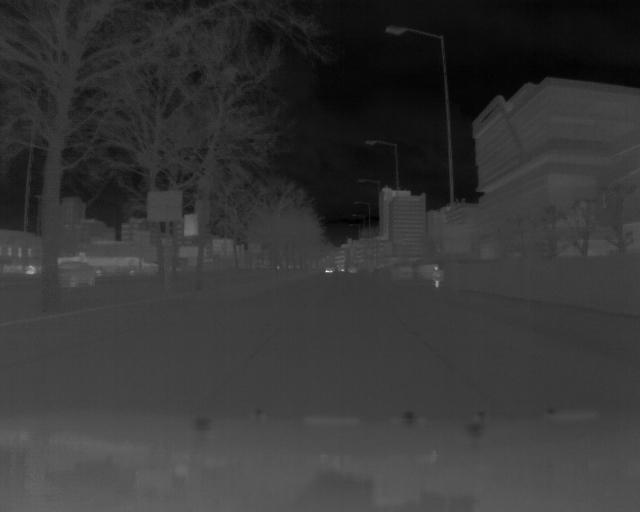car: (55, 259, 97, 288)
person: (431, 261, 442, 291)
